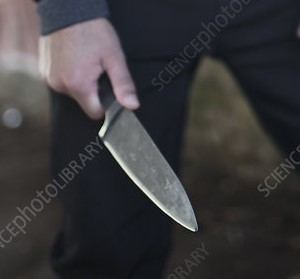knife: (89, 58, 198, 232)
